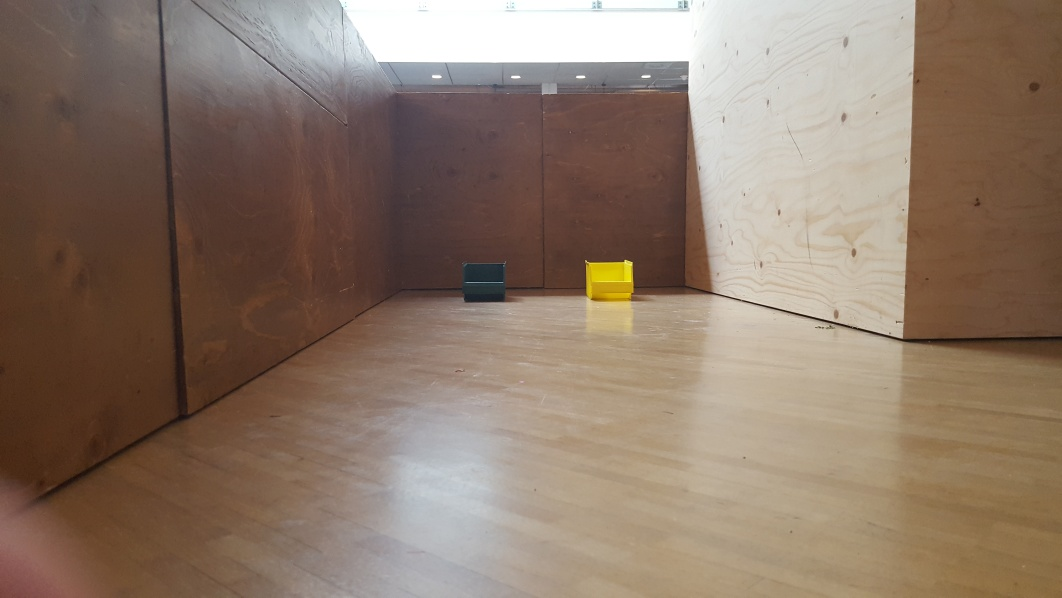tray: (455, 259, 513, 305), (579, 256, 638, 298)
